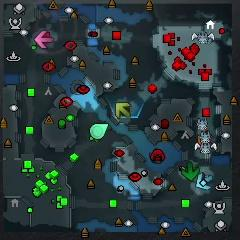p2: (90, 123, 109, 138)
x1: (35, 32, 54, 48)
x2: (115, 102, 129, 117)
x3: (195, 174, 214, 189)
x4: (182, 162, 199, 181)
x5: (196, 134, 203, 147)
